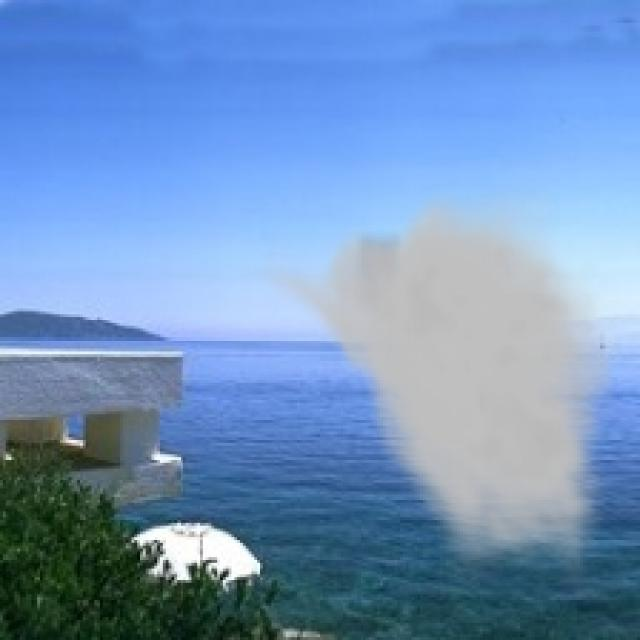smoke: (254, 183, 620, 588)
